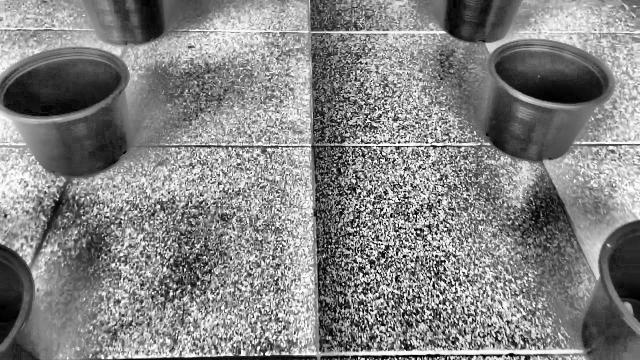pot: (0, 48, 134, 179), (484, 40, 615, 162)
